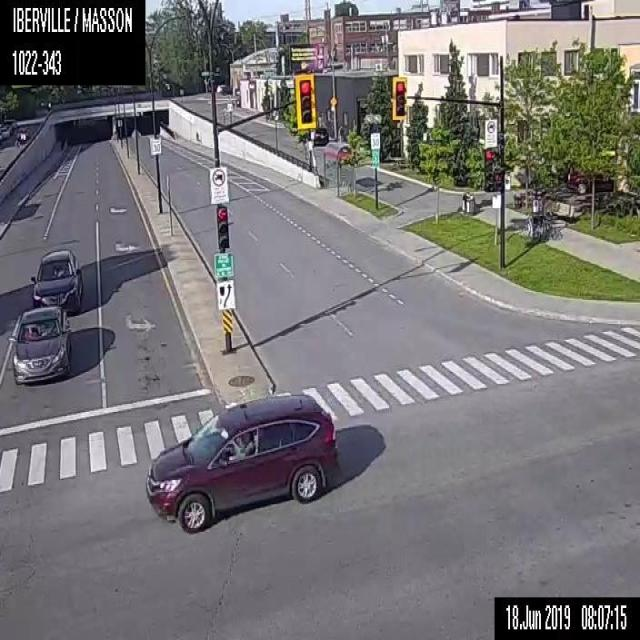vehicle: (143, 389, 337, 535), (5, 304, 70, 384), (30, 248, 82, 312), (562, 161, 615, 192), (304, 126, 326, 146)
